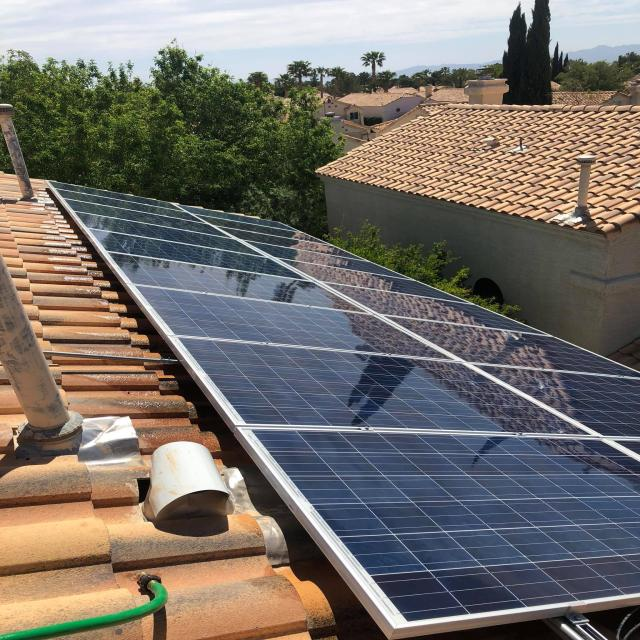clean-solar-panel: (48, 182, 638, 638)
